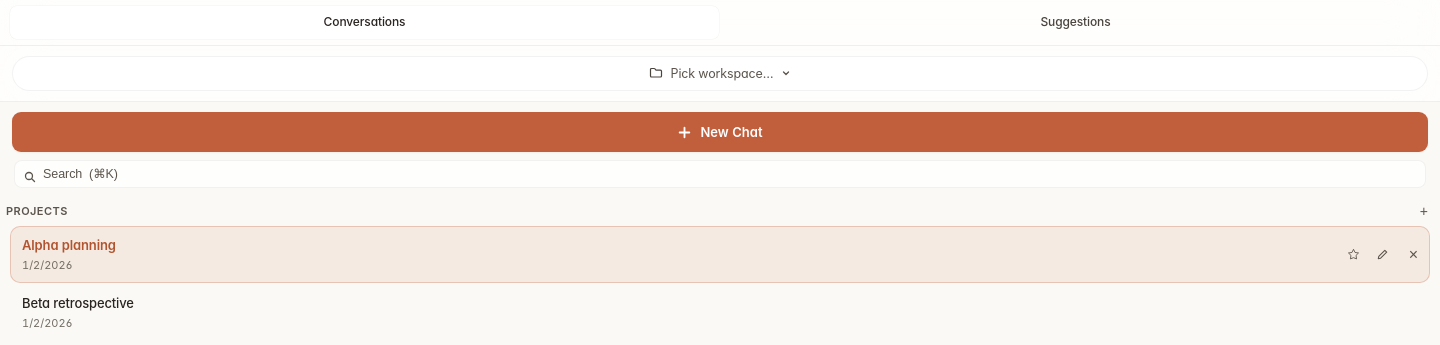
Test case: ChatContextPane message search › still filters conversation titles in place
Type "Beta" into the search field named "Search conversations and messages" at (720, 174), box [14,160,1426,188]
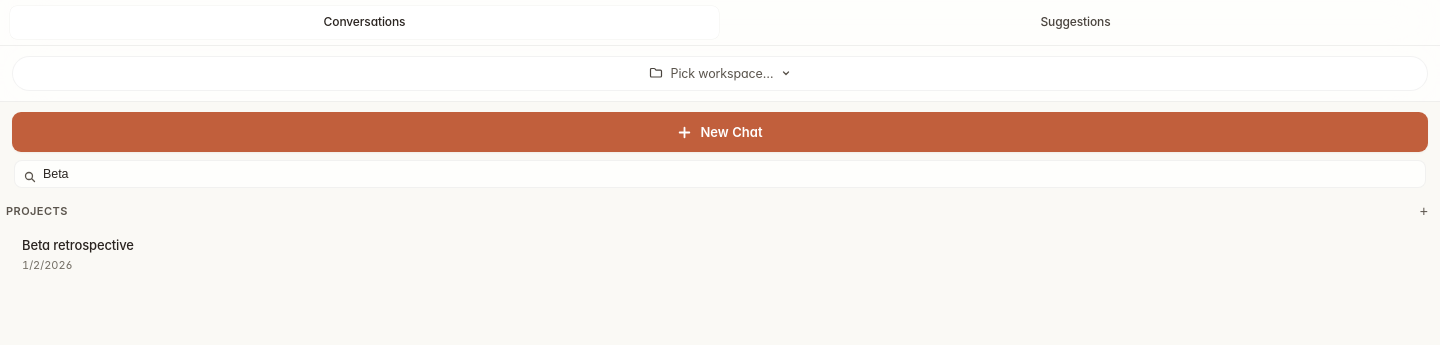
Expected: the text "Beta retrospective" is shown, [22,235,134,255]
Expected: the button "Alpha planning" is gone
